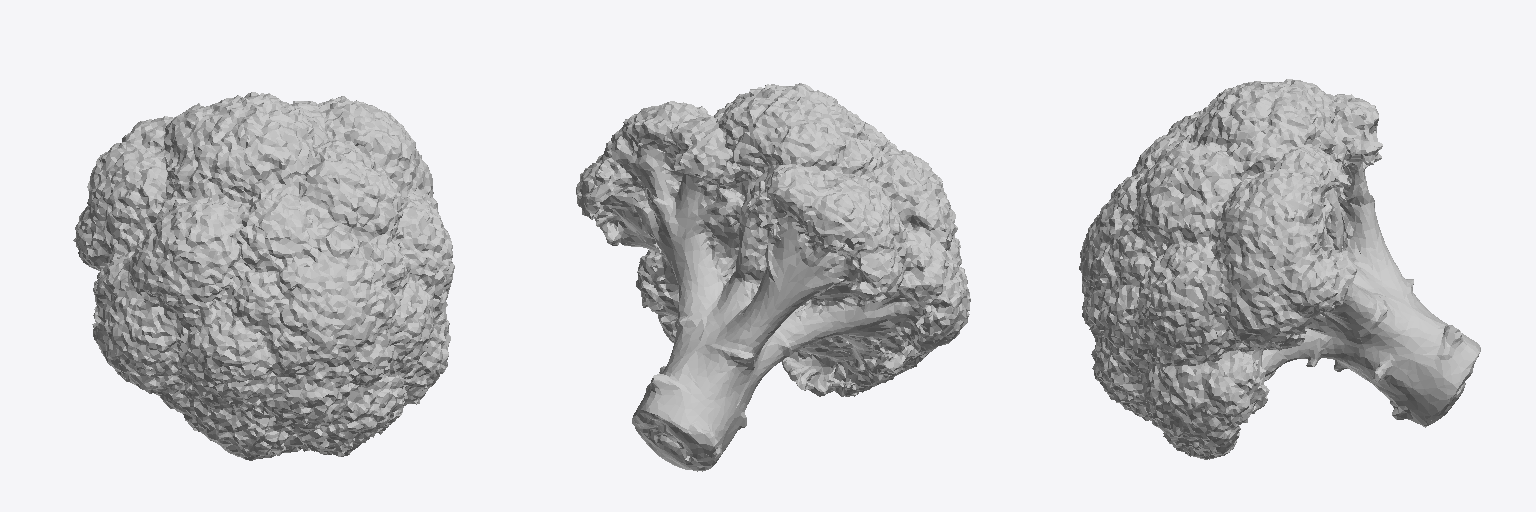
File: broccoli.obj
The picture shows the model from 3 angles: view 1: azimuth 30°, elevation 25°; view 2: azimuth 150°, elevation 25°; view 3: azimuth 270°, elevation 25°; orthographic projection.
Size of the model in its own units: 6.76 by 6.05 by 6.79.